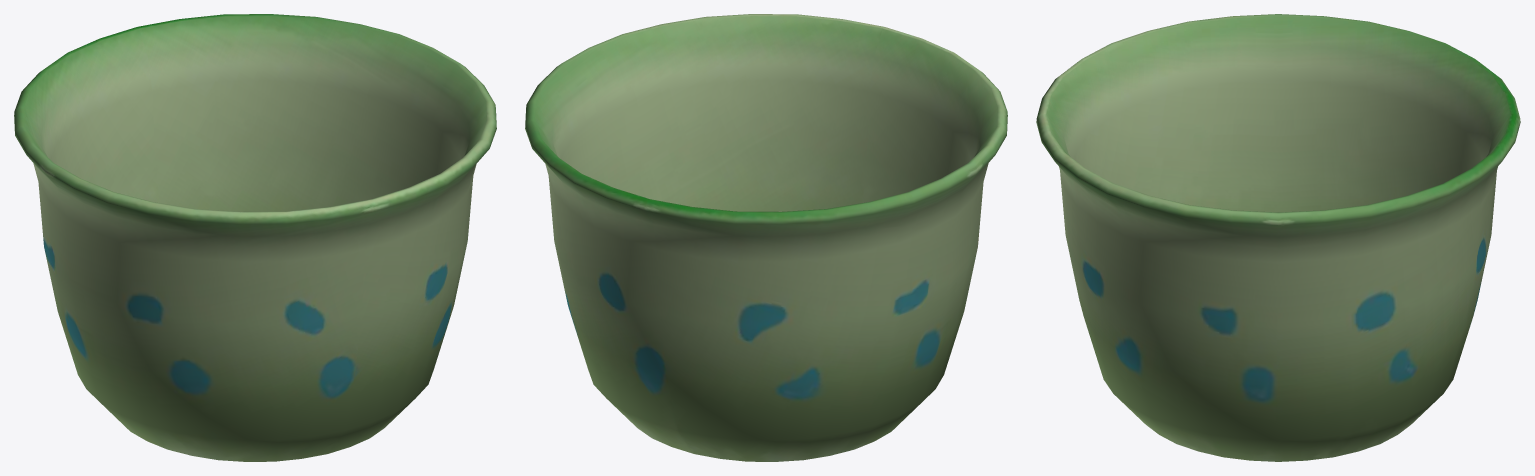
Rendered from cup.glb.
3 renders of one model, left to right at view 1: azimuth 30°, elevation 25°; view 2: azimuth 150°, elevation 25°; view 3: azimuth 270°, elevation 25°, orthographic.
Parts seen in each view (by area): view 1: 24FO0014_Material.001_0; view 2: 24FO0014_Material.001_0; view 3: 24FO0014_Material.001_0.
Boxes of the visible parts, <box> form: 24FO0014_Material.001_0: <box>14,14,496,461</box>; 24FO0014_Material.001_0: <box>525,14,1007,461</box>; 24FO0014_Material.001_0: <box>1036,14,1520,461</box>.
Size of the model in its own units: 0.103 by 0.073 by 0.103.
Materials: 1 (1 with a texture image).
